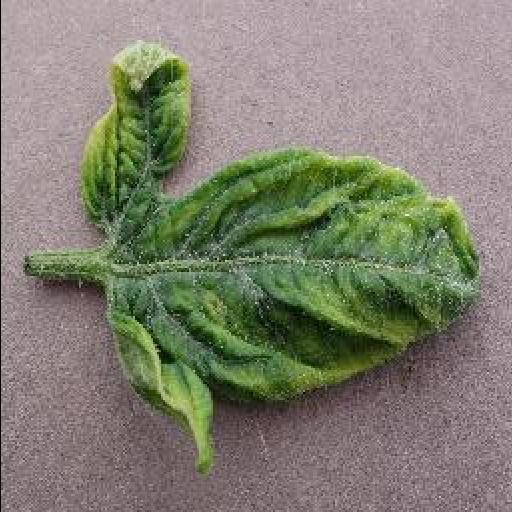disease_tomato: (82, 40, 482, 474)
